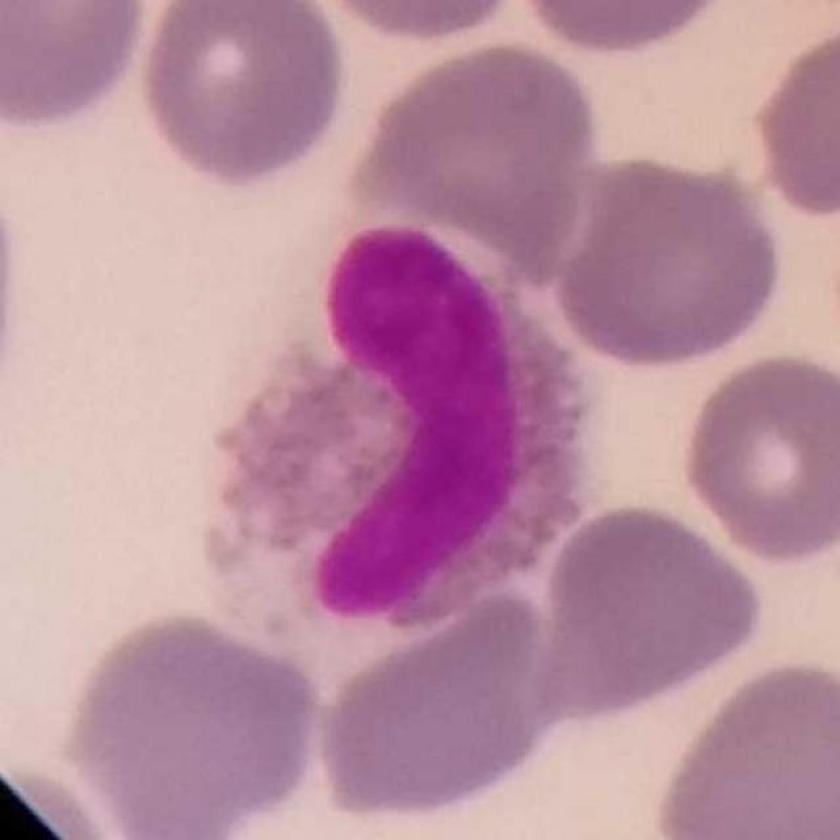eosinophil: (199, 198, 619, 627)
